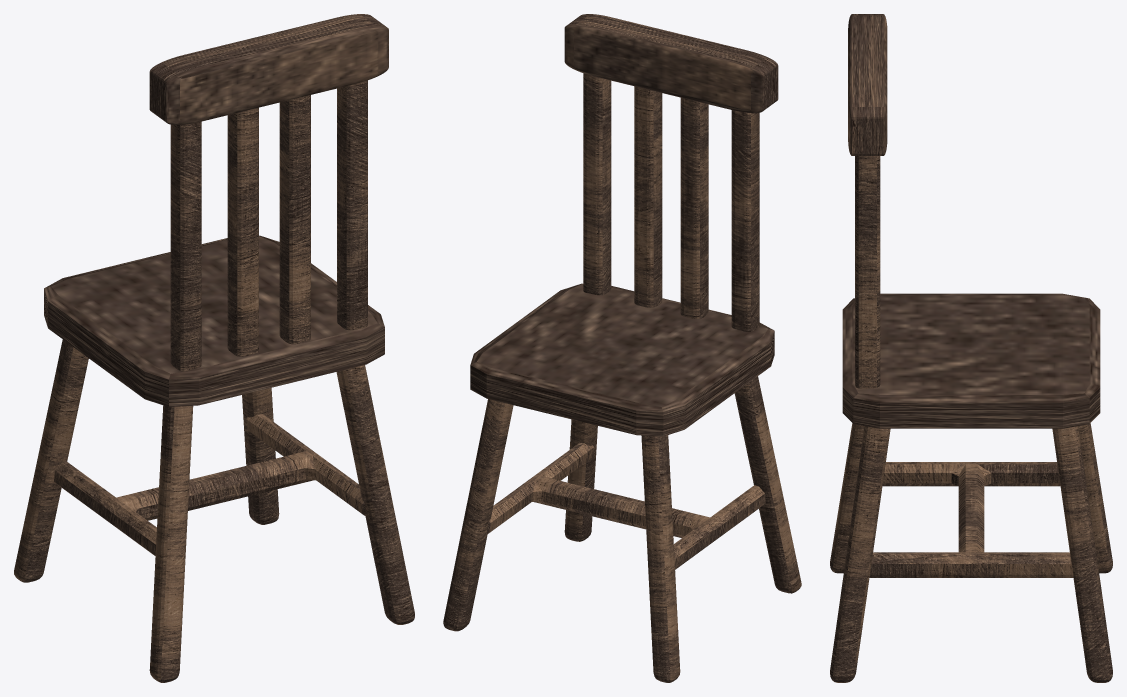
Rendered from Chair.fbx.
The picture shows the model from 3 angles, left to right: view 1: azimuth 30°, elevation 25°; view 2: azimuth 150°, elevation 25°; view 3: azimuth 270°, elevation 25°; orthographic projection. The views are drawn at different scales.
Visible parts, largest first — view 1: BackRestBar, Seat, Legs, BackRestTop, LegsSupport; view 2: Seat, BackRestBar, Legs, BackRestTop, LegsSupport; view 3: Seat, Legs, LegsSupport, BackRestBar, BackRestTop.
Part boxes in pixels (x1,y1,x2,y2): BackRestBar: (170, 80, 367, 371); Seat: (44, 235, 384, 406); Legs: (14, 339, 414, 682); BackRestTop: (149, 14, 388, 124); LegsSupport: (54, 414, 366, 555); Seat: (470, 283, 774, 436); BackRestBar: (583, 73, 759, 331); Legs: (443, 376, 801, 682); BackRestTop: (564, 14, 778, 113); LegsSupport: (486, 442, 765, 569); Seat: (842, 293, 1100, 428); Legs: (830, 423, 1112, 682); LegsSupport: (869, 462, 1073, 577); BackRestBar: (855, 156, 880, 388); BackRestTop: (848, 14, 887, 155).
Bounding box in the file's own units: 2181 × 4819 × 2181.
Materials: 1 (1 with a texture image).
